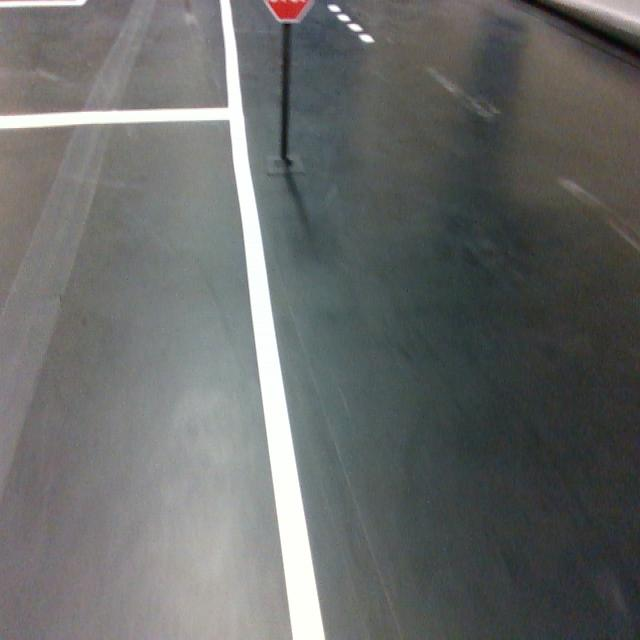stop-sign: (262, 0, 314, 24)
